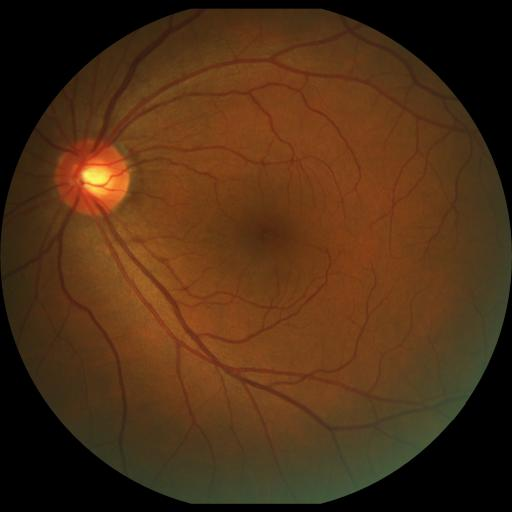Optic Cup: (76, 160, 115, 197)
Optic Disc: (54, 139, 130, 215)
